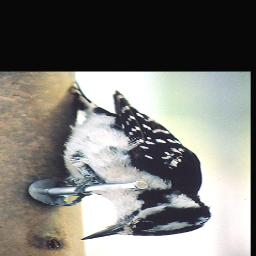Woodpecker: (52, 81, 212, 240)
